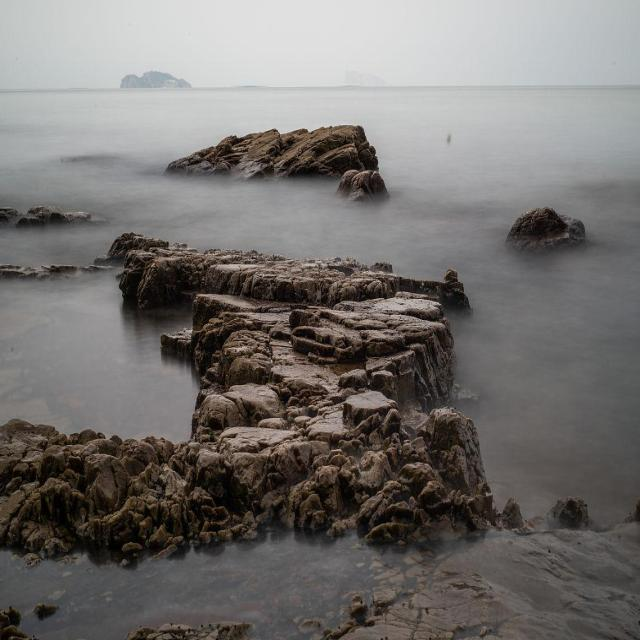reef: (79, 191, 260, 358), (202, 121, 410, 228), (490, 161, 606, 257)
